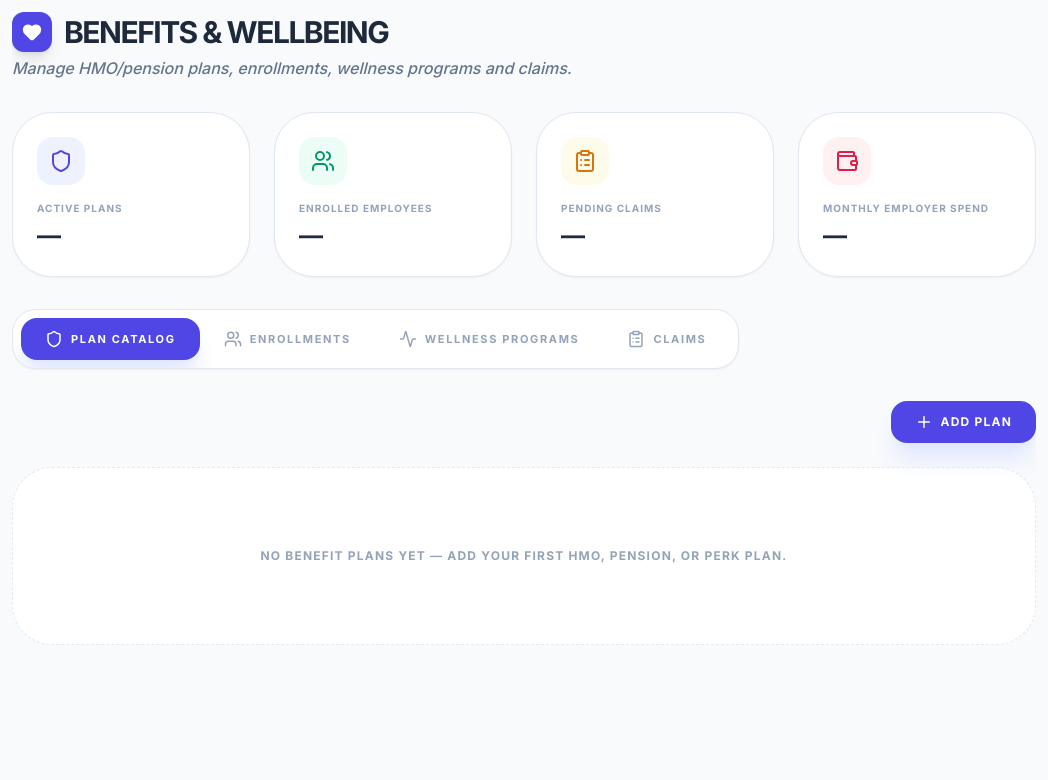
BenefitsAdmin › Enrollments › shows the empty state when there are no enrollments
Click the button "Enrollments" at [287, 339], box [200, 318, 375, 360]
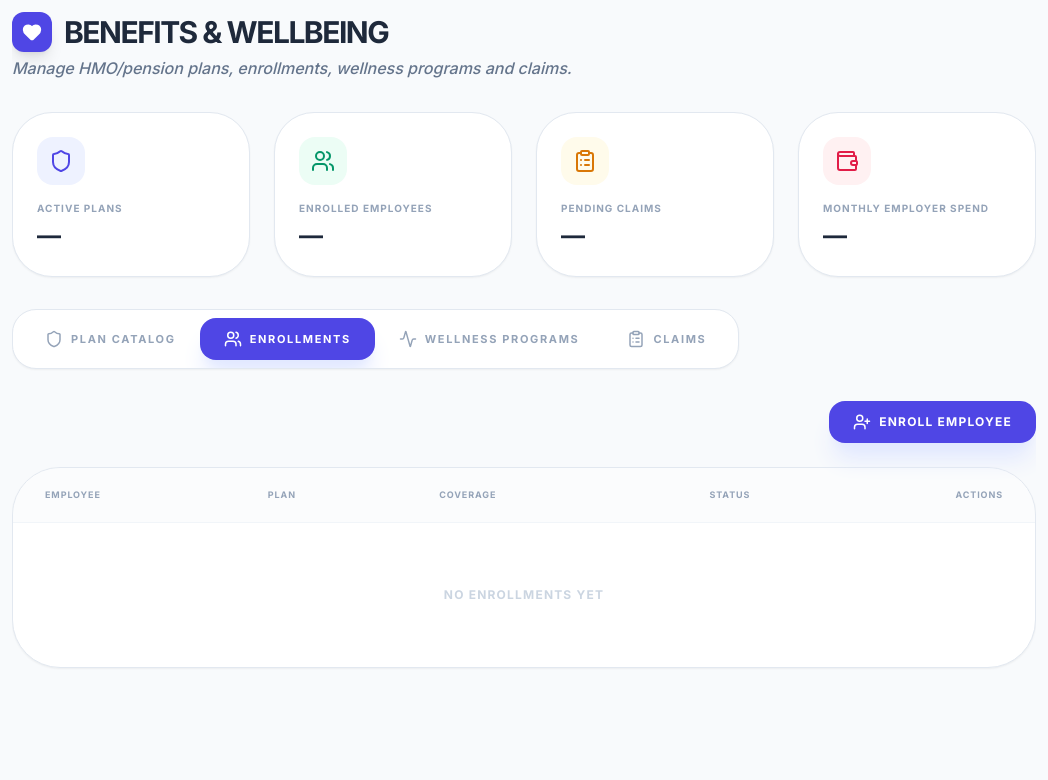
expect the text "No enrollments yet" is shown: met, box [13, 522, 1035, 666]
